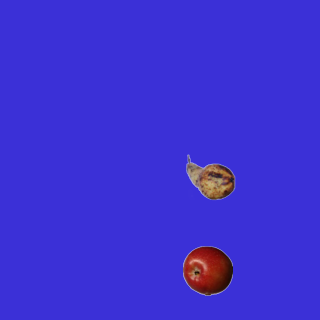Apple Braeburn: (182, 245, 232, 295)
Pear Abate: (185, 152, 235, 202)
